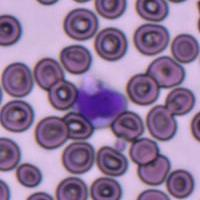M: (72, 73, 128, 128)
